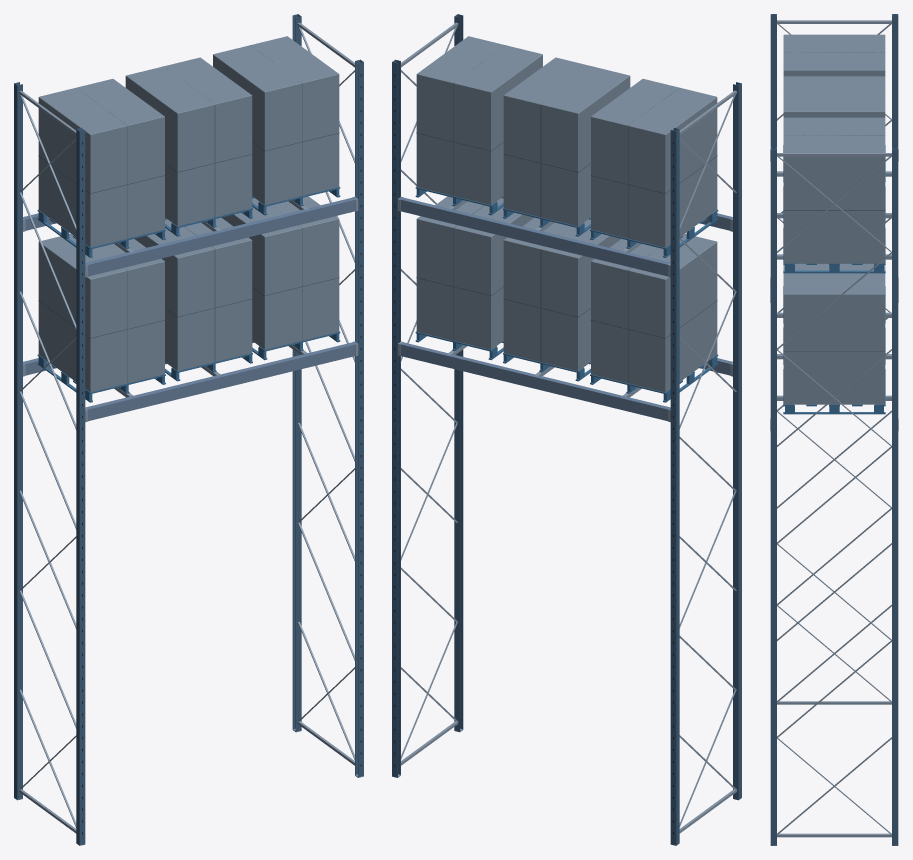
The model's file is SM_GHS_CADRack_C_Pass.fbx.
3 renders of one model, left to right at view 1: azimuth 30°, elevation 25°; view 2: azimuth 150°, elevation 25°; view 3: azimuth 270°, elevation 25°, orthographic. The views are drawn at different scales.
Parts seen in each view (by area): view 1: SM_GHS_CADRack_C_Pass; view 2: SM_GHS_CADRack_C_Pass; view 3: SM_GHS_CADRack_C_Pass.
Boxes of the visible parts, bbox=[...] form: SM_GHS_CADRack_C_Pass: bbox=[14, 14, 363, 845]; SM_GHS_CADRack_C_Pass: bbox=[392, 14, 741, 845]; SM_GHS_CADRack_C_Pass: bbox=[770, 14, 898, 845].
Bounding box in the file's own units: 381 × 153 × 915.
